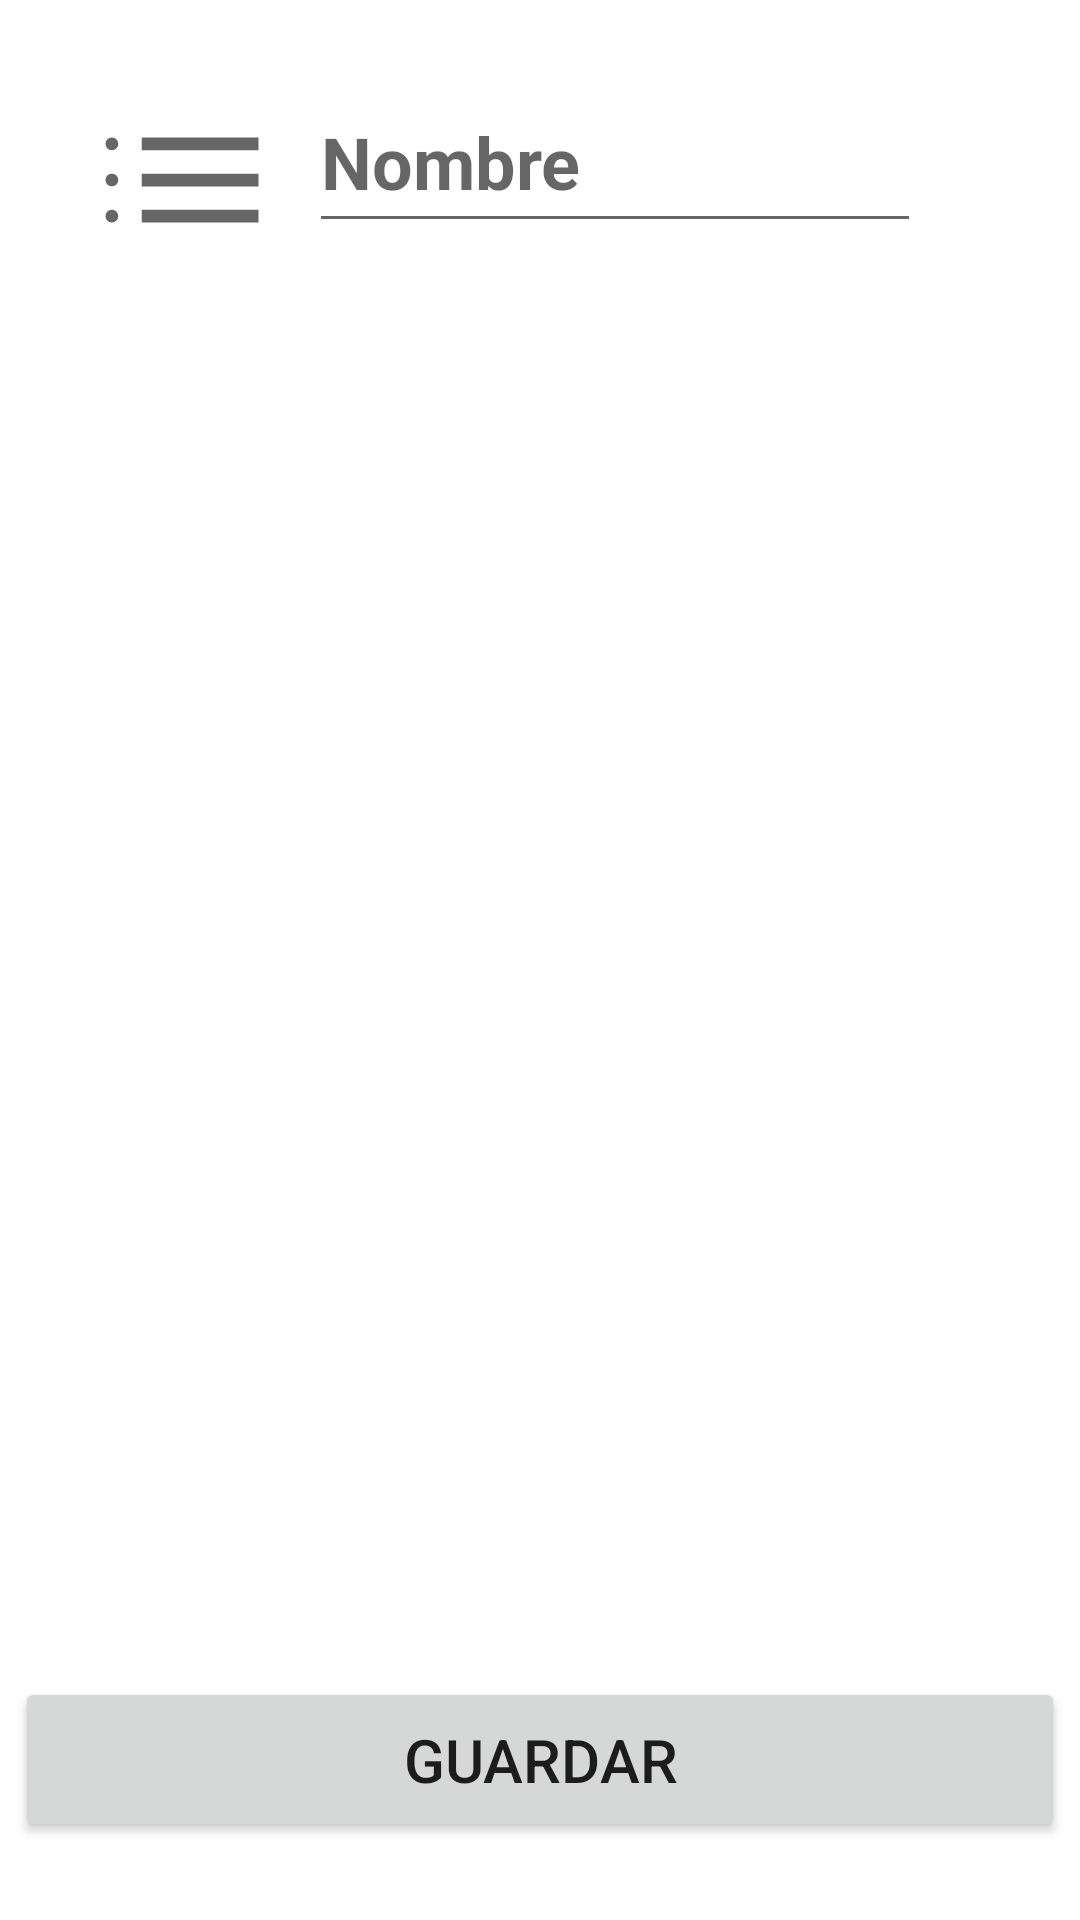

Where icons sit on this 1080 x 1920 app screen, as (x1, y1, x2, y2):
lista: (105, 137, 259, 223)
